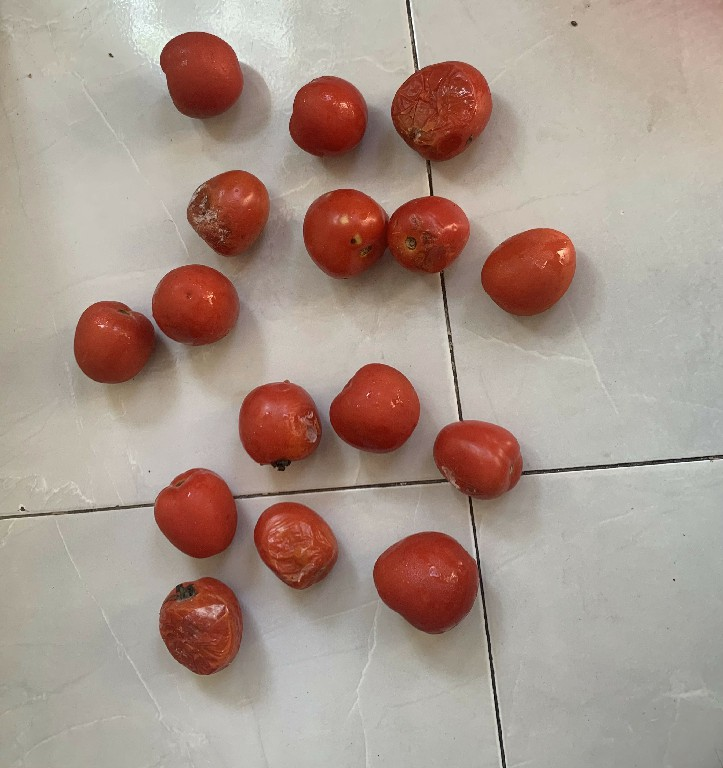NG: (383, 55, 492, 168), (148, 572, 254, 680), (428, 413, 528, 511), (248, 495, 342, 595), (297, 183, 388, 284), (181, 166, 276, 257), (232, 378, 324, 470), (384, 187, 470, 279)
OK: (365, 526, 488, 640), (474, 219, 587, 320), (327, 356, 422, 460), (146, 463, 246, 561), (62, 294, 161, 387), (153, 28, 250, 121), (145, 261, 247, 348), (283, 67, 376, 161)
